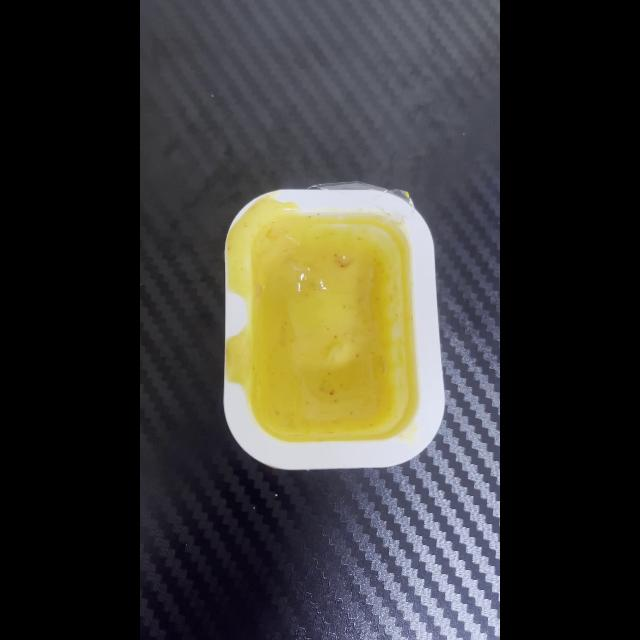dirty: (223, 188, 443, 464)
